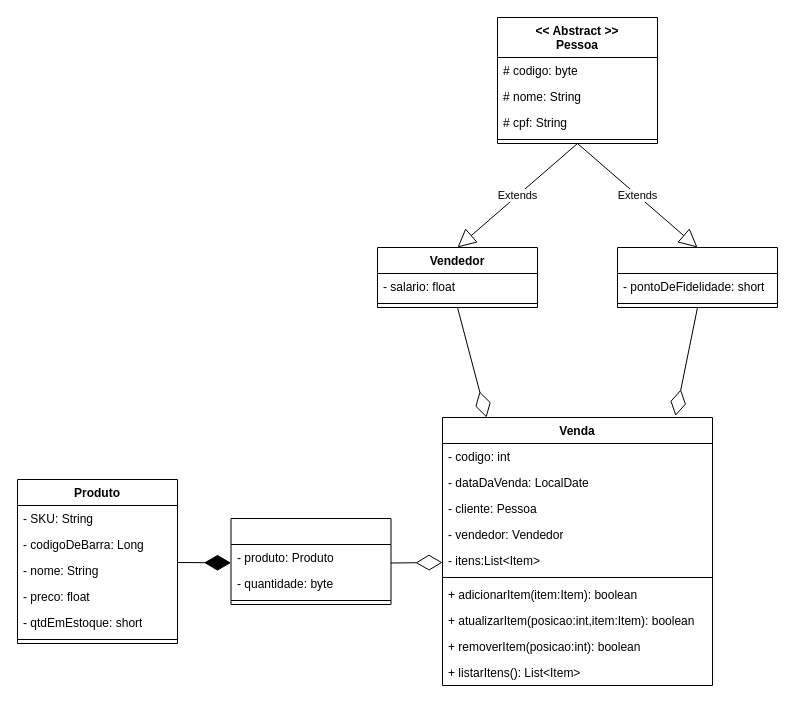
The diagram is 795 pixels wide and 706 high, and some of its shapes have lost their labels. Each missing label, with the box of its shape:
Cliente: (616, 246, 778, 308)
Item: (230, 518, 391, 604)
